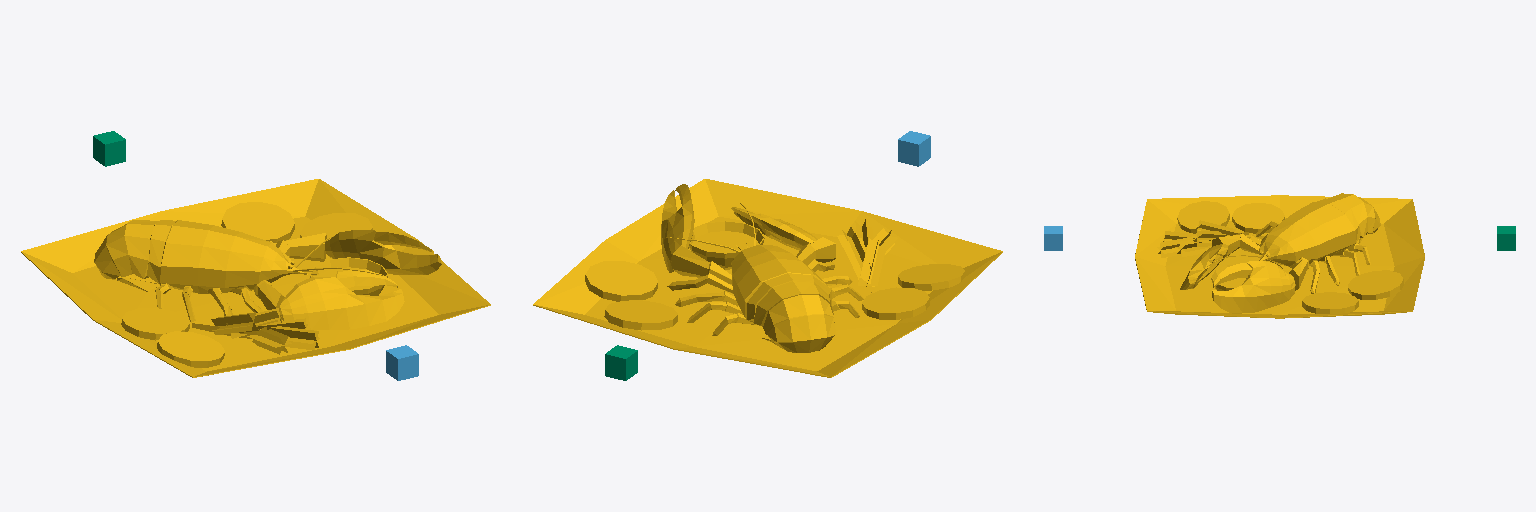
URDF robot description (lobsterPlate.urdf):
<?xml version="1.0" ?>
<robot name="lobsterPlate.urdf">
  <link name="lobsterPlateBase">
    <contact>
      <lateral_friction value="1.0"/>
      <inertia_scaling value="3.0"/>
    </contact>
    <inertial>
      <origin rpy="0 0 0" xyz="0 0 0"/>
       <mass value="0"/>
       <inertia ixx="1" ixy="0" ixz="0" iyy="1" iyz="0" izz="1"/>
    </inertial>
    <visual>
      <origin rpy="0 0 0" xyz="0 0 -0.01"/>
      <geometry>
        <mesh filename="lobster_plate.obj" scale="0.02 0.02 0.02"/>
      </geometry>
      <material name="">
        <color rgba="0.96 0.76 0.13 1.0"/>
      </material>
    </visual>
    <collision>
      <origin rpy="0 0 0" xyz="0 0 -0.01"/>
      <geometry>
        <mesh filename="lobster_plate.obj" scale="0.02 0.02 0.02"/>
      </geometry>
    </collision>
  </link>

  <link name="lobsterPlateLeft">
    <inertial>
      <origin rpy="0 0 0" xyz="0 0 0"/>
      <mass value="0"/>
      <inertia ixx="1" ixy="0" ixz="0" iyy="1" iyz="0" izz="1"/>
    </inertial>
    <visual>
      <origin rpy="0 0 0" xyz="0 0 0"/>
      <geometry>
        <box size="0.01 0.01 0.01"/>
      </geometry>
    </visual>
  </link>
  <joint name="base2left" type="fixed">
    <origin rpy="0 0 0" xyz="0 -0.12 0"/>
    <parent link="lobsterPlateBase"/>
    <child link="lobsterPlateLeft"/>
  </joint>

  <link name="lobsterPlateRight">
    <inertial>
      <origin rpy="0 0 0" xyz="0 0 0"/>
      <mass value="0"/>
      <inertia ixx="1" ixy="0" ixz="0" iyy="1" iyz="0" izz="1"/>
    </inertial>
    <visual>
      <origin rpy="0 0 0" xyz="0 0 0"/>
      <geometry>
        <box size="0.01 0.01 0.01"/>
      </geometry>
    </visual>
  </link>
  <joint name="base2right" type="fixed">
    <origin rpy="0 0 0" xyz="0 0.12 0"/>
    <parent link="lobsterPlateBase"/>
    <child link="lobsterPlateRight"/>
  </joint>
</robot>

--- Facts derived from the render (not from the file) ---
3 views of the same robot in one strip: view 1: azimuth 30°, elevation 25°; view 2: azimuth 150°, elevation 25°; view 3: azimuth 270°, elevation 25° (orthographic).
Robot: lobsterPlate.urdf — 3 links, 2 joints (2 fixed); root link lobsterPlateBase; default pose: all joints at 0.
Visible links, largest first — view 1: lobsterPlateBase, lobsterPlateLeft, lobsterPlateRight; view 2: lobsterPlateBase, lobsterPlateLeft, lobsterPlateRight; view 3: lobsterPlateBase.
Link boxes in pixels (bbox=[...]): lobsterPlateBase: bbox=[21, 179, 490, 377]; lobsterPlateLeft: bbox=[386, 345, 418, 380]; lobsterPlateRight: bbox=[93, 131, 125, 166]; lobsterPlateBase: bbox=[533, 179, 1002, 377]; lobsterPlateLeft: bbox=[898, 131, 930, 166]; lobsterPlateRight: bbox=[605, 345, 637, 380]; lobsterPlateBase: bbox=[1135, 193, 1424, 318].
Size in the robot's own frame: 0.1543 by 0.25 by 0.0281 metres.
1 mesh visuals loaded from 1 distinct referenced files (1 OBJ).